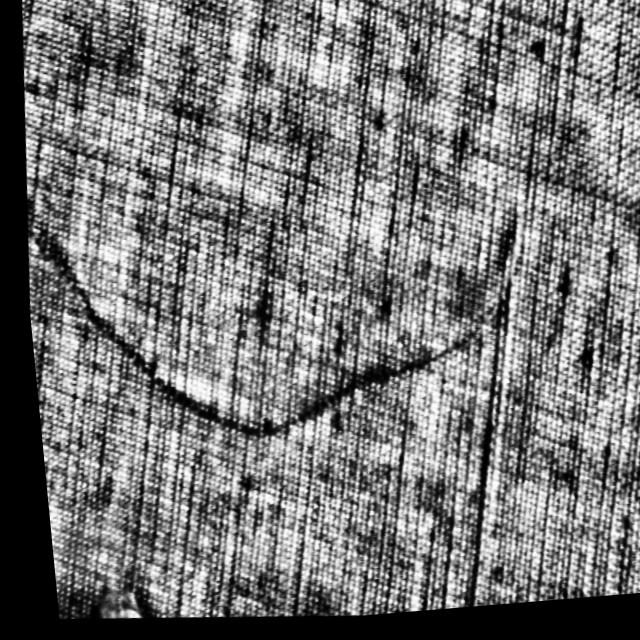Stitch: (12, 124, 532, 480), (75, 578, 156, 624)
